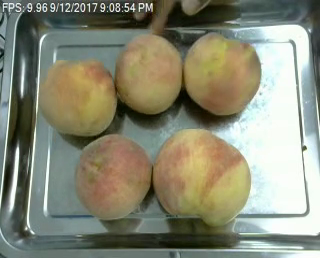Peach: (153, 127, 252, 225), (182, 31, 261, 115), (76, 134, 152, 219), (39, 59, 115, 136), (114, 33, 183, 114)
